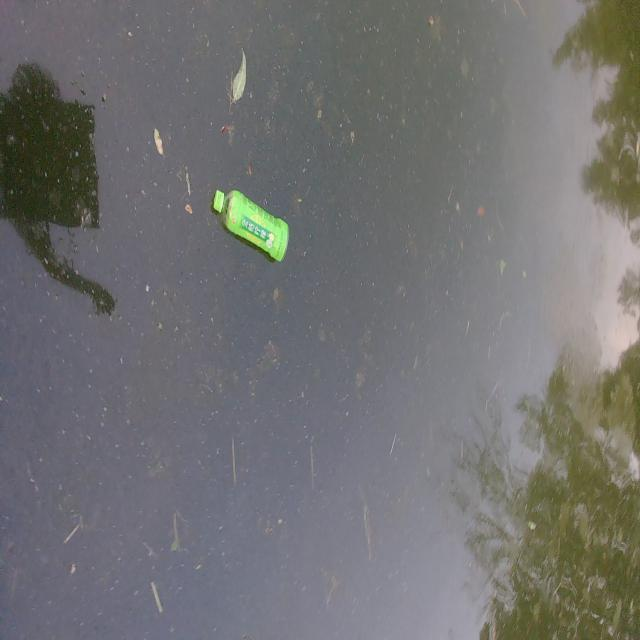garbage: (211, 187, 289, 263)
